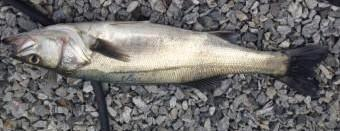fish: (5, 21, 328, 94)
